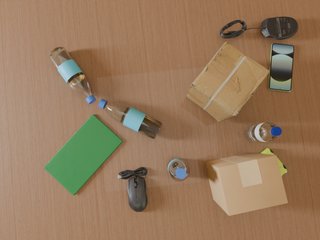book: (44, 115, 123, 195)
bottle: (49, 47, 96, 104), (99, 99, 162, 139), (246, 122, 282, 142), (168, 158, 189, 181)
box: (187, 42, 270, 122), (205, 153, 288, 216)
mouse: (118, 167, 147, 212), (261, 17, 298, 40)
phone: (268, 43, 294, 92)
toy_car: (261, 148, 287, 175)
